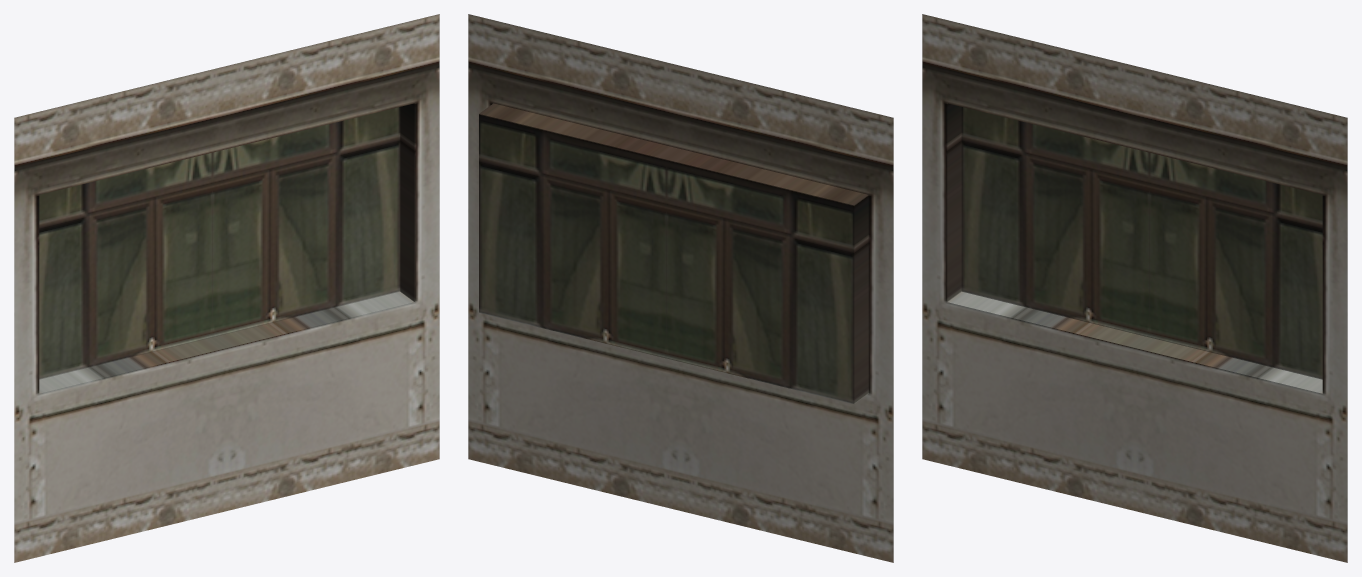
Rendered from CT_Building_Piece_Single_03.fbx.
3 renders of one model, left to right at view 1: azimuth 30°, elevation 25°; view 2: azimuth 150°, elevation 25°; view 3: azimuth 330°, elevation 25°, orthographic.
Visible parts, largest first — view 1: CT_Building_Piece_Single_03; view 2: CT_Building_Piece_Single_03; view 3: CT_Building_Piece_Single_03.
Part boxes in pixels (x1,y1,x2,y2): CT_Building_Piece_Single_03: (14, 14, 439, 562); CT_Building_Piece_Single_03: (468, 14, 893, 562); CT_Building_Piece_Single_03: (922, 14, 1347, 562).
Bounding box in the file's own units: 256 × 256 × 15.
